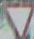Give way: (1, 0, 33, 36)
